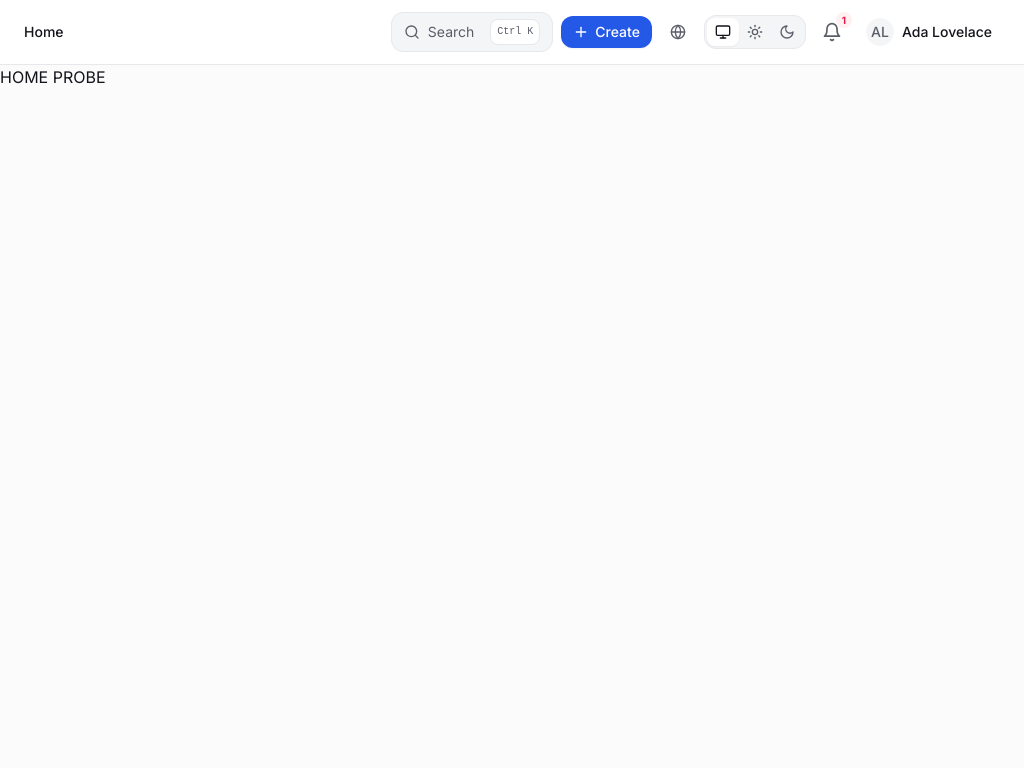
Test: MarketingHeader — notification click › marks read AND navigates to the kind’s destination, closing the popover
Click the button named "Notifications" at (832, 32), box x1=814 y1=14 x2=850 y2=50
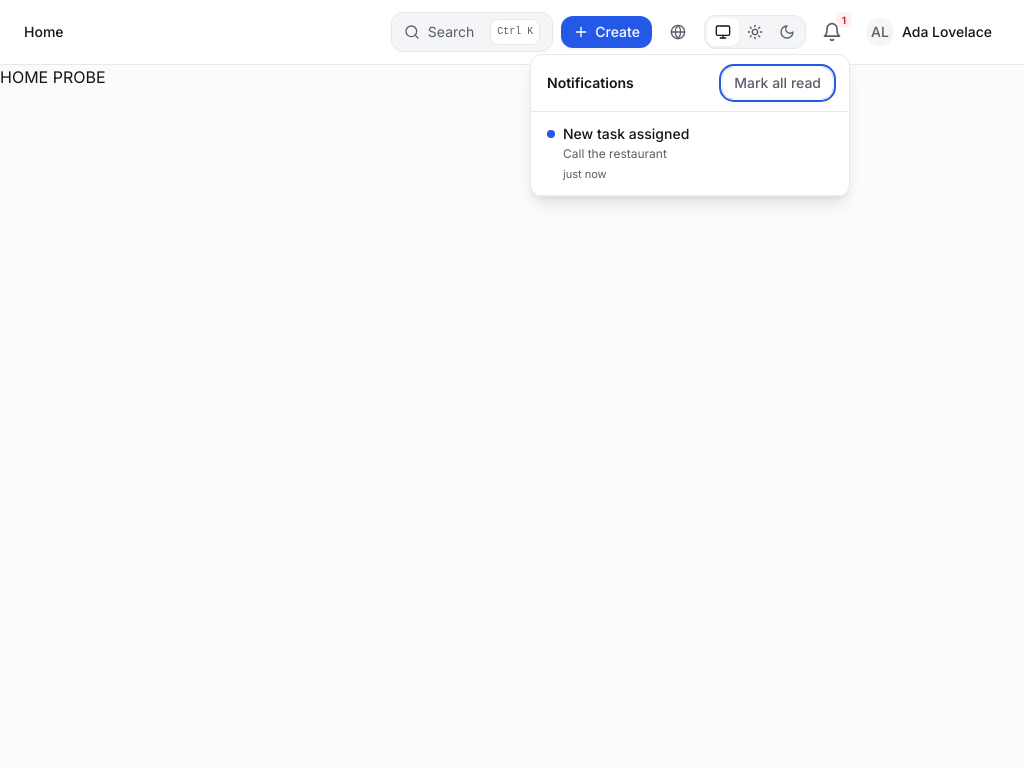
Click the text "New task assigned" at (626, 134), box x1=563 y1=125 x2=689 y2=142
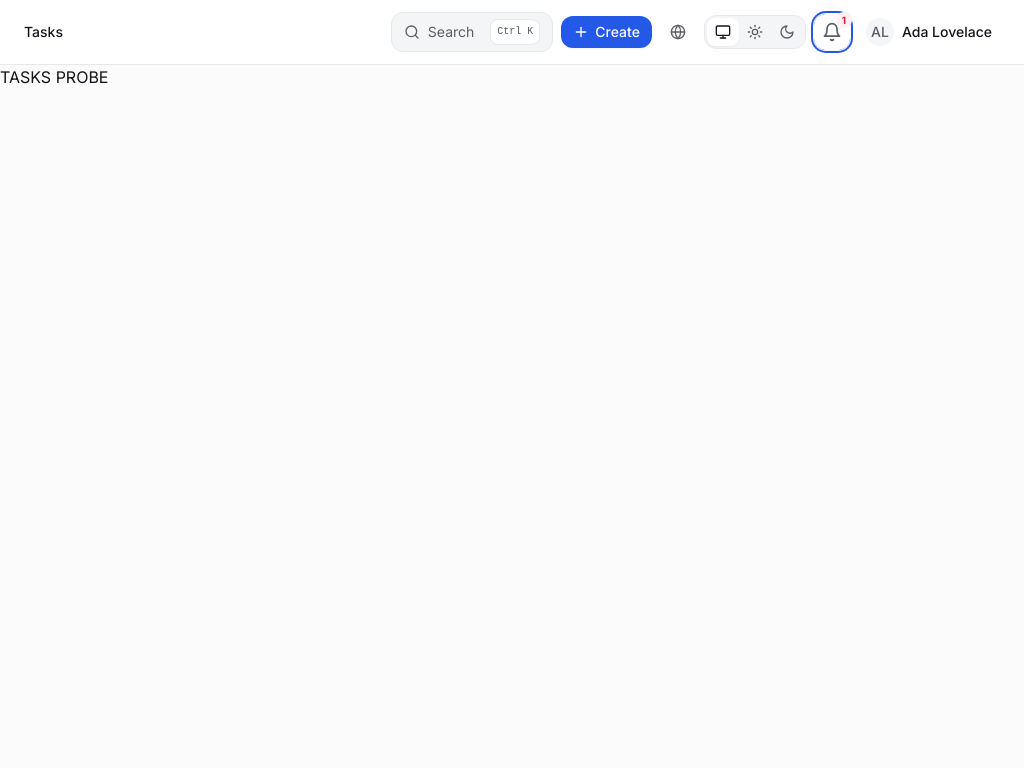
Now the text "TASKS PROBE" is shown, box x1=0 y1=67 x2=108 y2=87
Now the button "New task assigned" is gone
